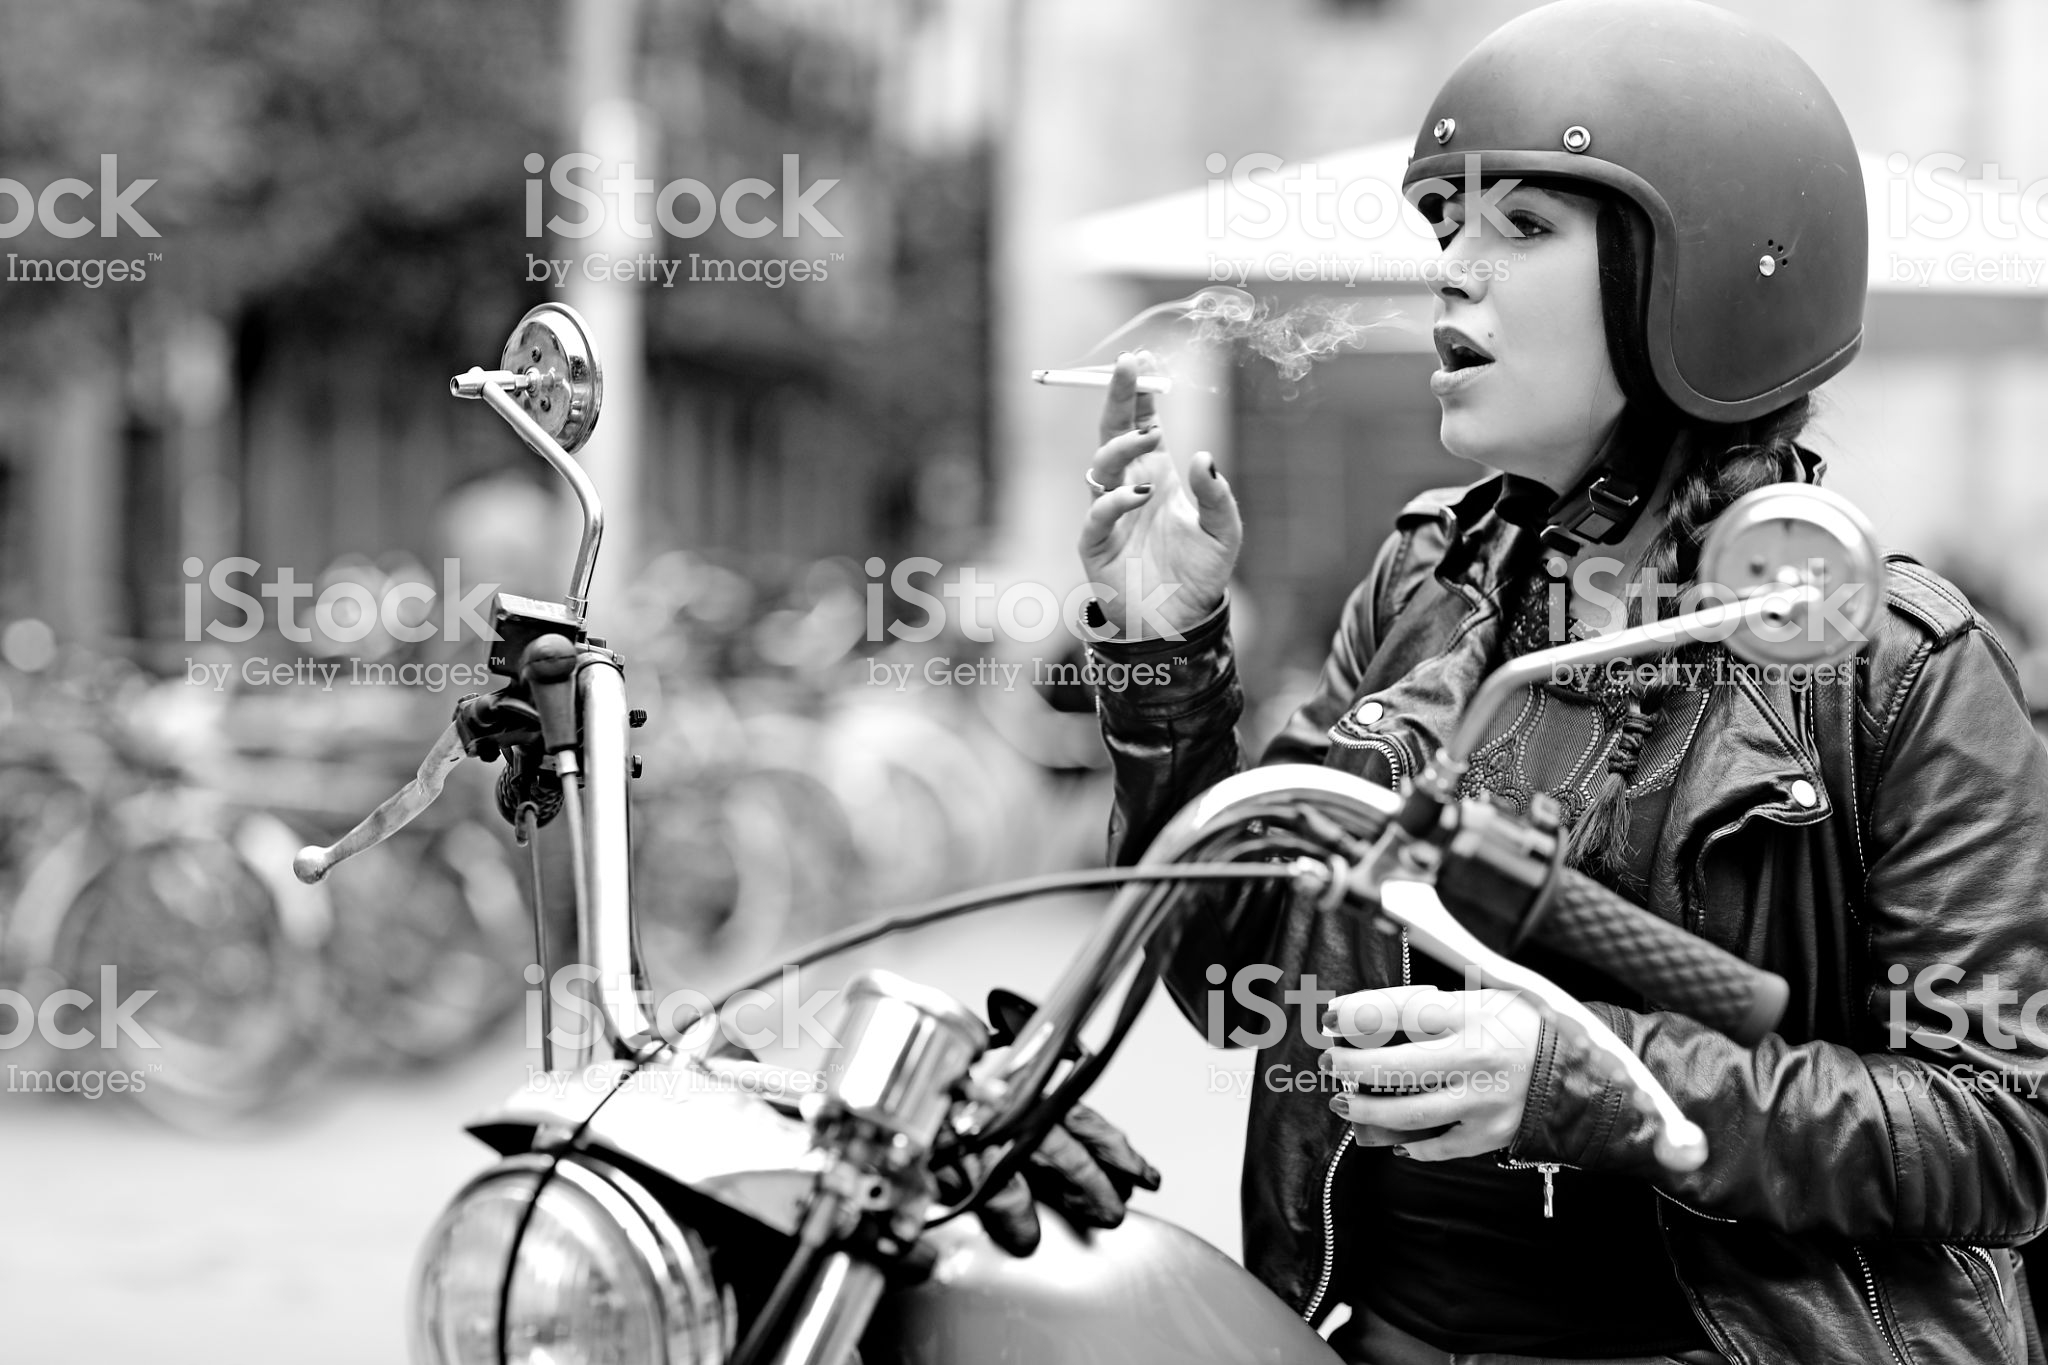helmet: (1402, 6, 1884, 404)
